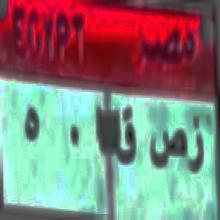0: (64, 113, 82, 160)
5: (24, 100, 42, 145)
qaaf: (116, 105, 138, 167)
saad: (148, 125, 187, 173)
zay: (189, 114, 205, 179)
